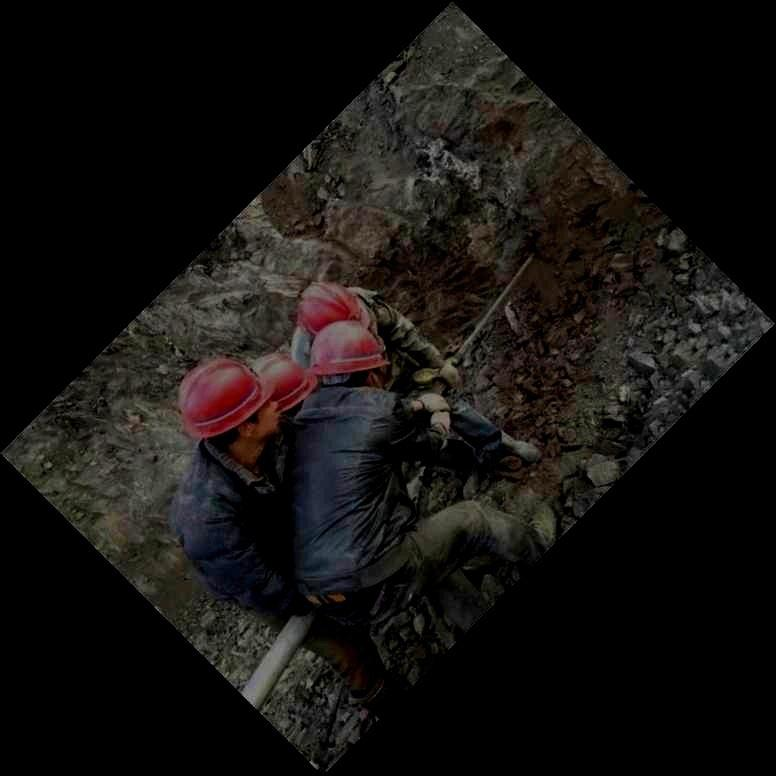helmet: (177, 356, 279, 448), (309, 319, 390, 389), (294, 282, 372, 337), (252, 352, 317, 417)
